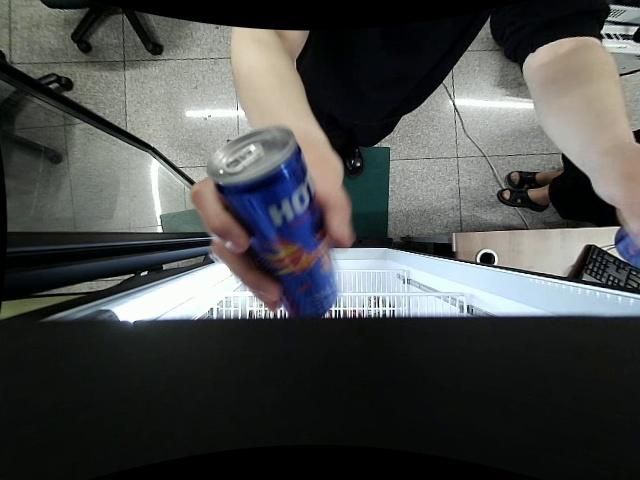00_hand: (189, 144, 353, 309)
16_hot6: (207, 128, 337, 319)
